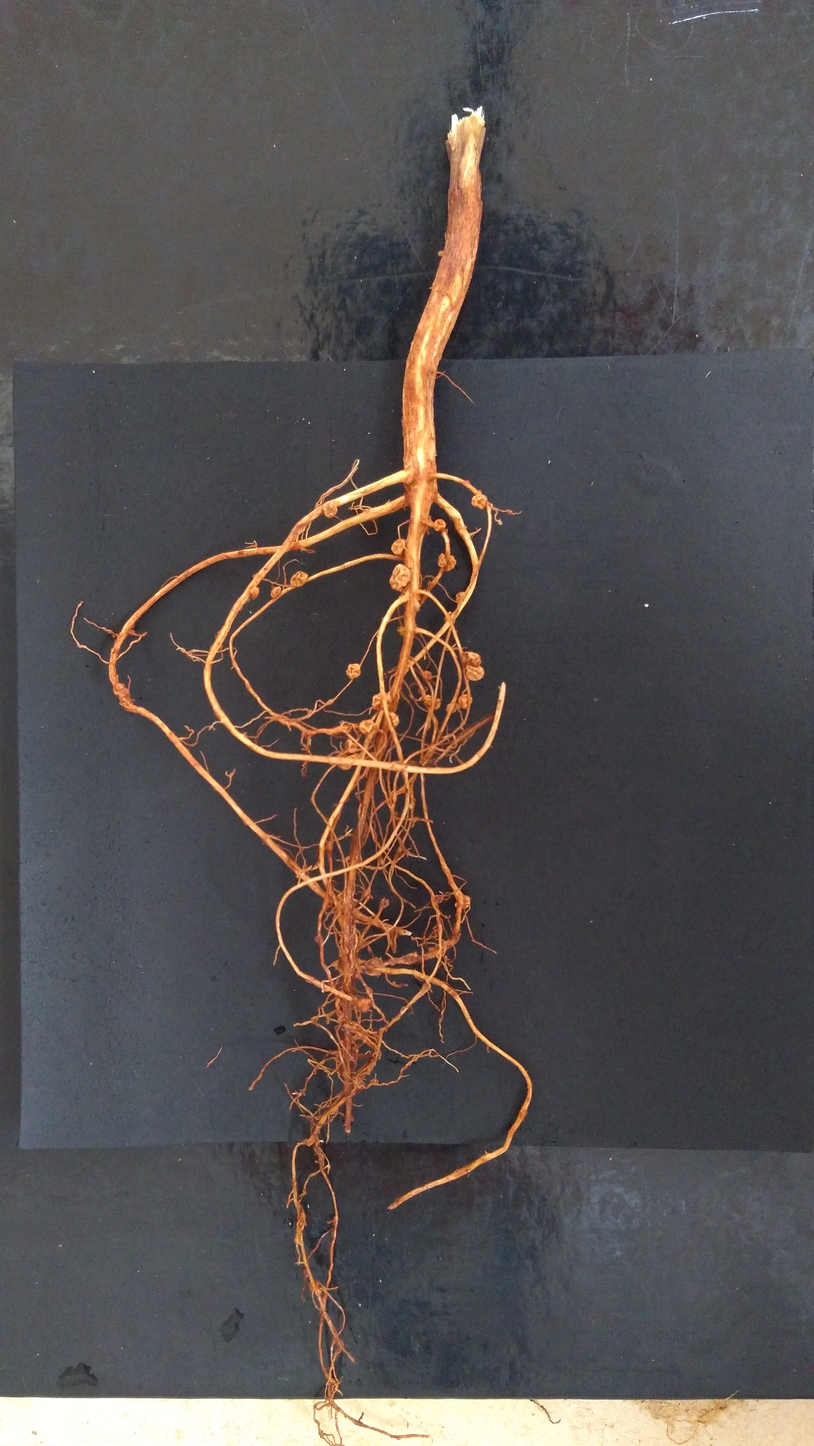nodule: (389, 563, 410, 592), (336, 750, 356, 770), (372, 691, 391, 711), (363, 957, 382, 975), (465, 664, 484, 681), (354, 996, 373, 1013), (462, 651, 481, 667), (290, 571, 308, 587), (424, 694, 441, 710), (391, 538, 406, 556), (322, 500, 337, 518), (470, 494, 487, 509), (346, 663, 361, 679), (360, 719, 375, 735), (445, 554, 457, 573), (454, 894, 470, 908), (401, 952, 419, 964), (458, 694, 472, 709), (344, 739, 358, 753), (309, 1280, 322, 1294), (387, 712, 399, 727), (335, 957, 345, 974), (433, 519, 446, 532), (455, 591, 466, 605), (249, 586, 259, 600), (446, 702, 458, 713), (270, 586, 281, 598), (437, 553, 446, 567), (397, 625, 406, 637), (422, 670, 432, 680), (414, 599, 421, 612), (444, 611, 452, 622), (314, 934, 323, 943), (115, 683, 125, 691), (428, 947, 440, 952), (128, 629, 135, 636), (370, 1078, 378, 1084), (438, 250, 444, 257), (497, 519, 503, 525), (506, 509, 513, 514), (408, 803, 413, 809), (345, 856, 350, 861), (428, 515, 432, 519)
